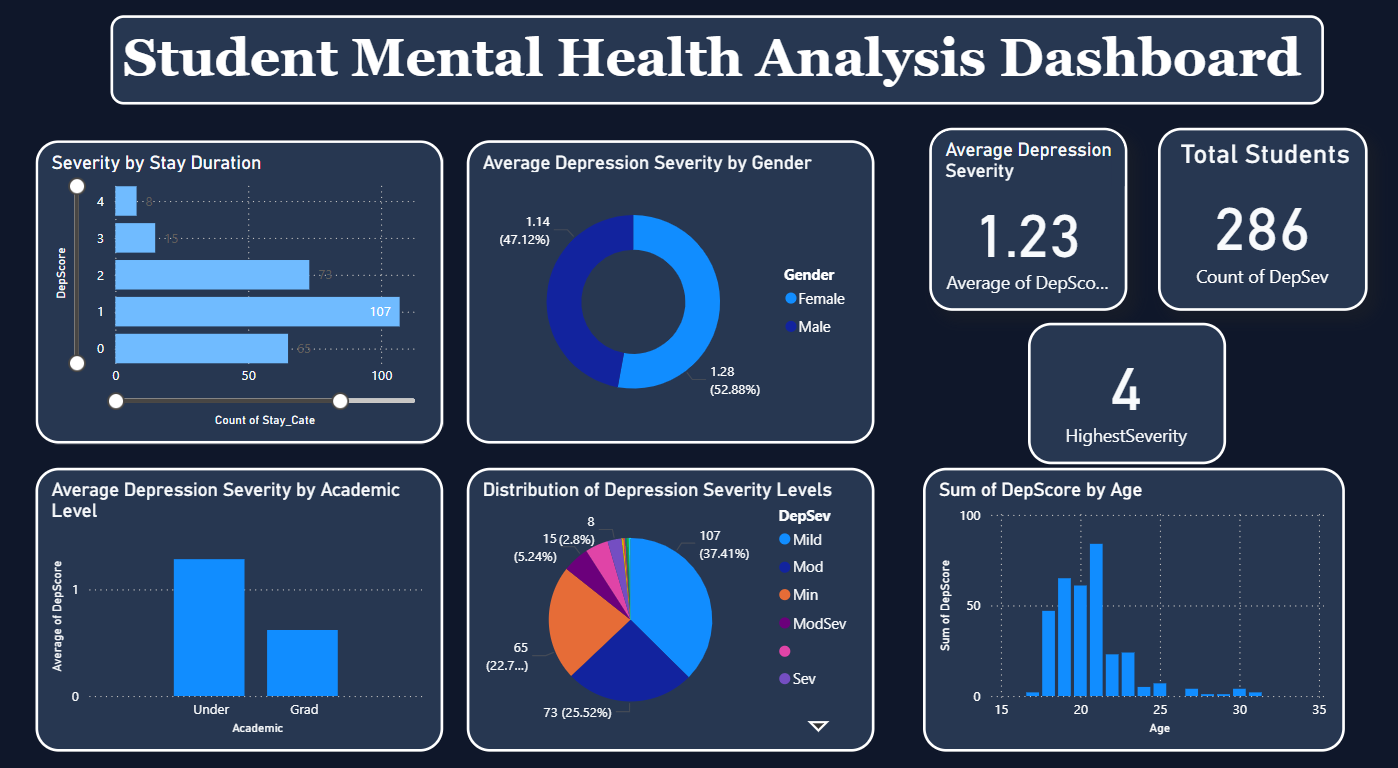

The page's visual inventory and layout, read from the dashboard file:
{"tool":"powerbi","page":{"name":"Page 1","canvas":[1280,720],"ordinal":0},"visuals":[{"type":"card","title":"Total Students","fields":{"Values":["CountNonNull(student_mental_health.DepSev)"]},"box":[1049,121,189.6,165.4],"z":0},{"type":"card","title":"Average Depression Severity","fields":{"Values":["Avg(student_mental_health.DepScore)"]},"box":[841.9,121,178.9,165.4],"z":1000},{"type":"clusteredBarChart","title":"Severity by Stay Duration","fields":{"Y":["CountNonNull(student_mental_health.Stay_Cate)"],"Category":["student_mental_health.DepScore"]},"box":[33.6,131.8,368.5,274.3],"z":2000},{"type":"donutChart","title":"Average Depression Severity by Gender","fields":{"Category":["student_mental_health.Gender"],"Y":["Avg(student_mental_health.DepScore)"]},"box":[423.6,131.8,368.5,274.3],"z":3000},{"type":"clusteredColumnChart","title":"Average Depression Severity by Academic Level","fields":{"Category":["student_mental_health.Academic"],"Y":["Avg(student_mental_health.DepScore)"]},"box":[33.6,429,368.5,256.9],"z":4000},{"type":"pieChart","title":"Distribution of Depression Severity Levels","fields":{"Category":["student_mental_health.DepSev"],"Y":["CountNonNull(student_mental_health.DepSev)"]},"box":[423.6,429,368.5,256.9],"z":5000},{"type":"textbox","box":[102.2,18.8,1097.4,80.7],"z":6000},{"type":"card","fields":{"Values":["student_mental_health.HighestSeverity"]},"box":[932,297.2,178.9,127.8],"z":7000},{"type":"clusteredColumnChart","fields":{"Category":["student_mental_health.Age"],"Y":["Sum(student_mental_health.DepScore)"]},"box":[836.5,429,381.9,256.9],"z":7001}]}

Visuals, with their boxes in screenshot pixels (x1, y1, x2, y2), scaled from the page's 1280x720 canvas onto the 1398x768 screenshot:
"Total Students" card: (left=1146, top=129, right=1353, bottom=305)
"Average Depression Severity" card: (left=920, top=129, right=1115, bottom=305)
"Severity by Stay Duration" clusteredBarChart: (left=37, top=141, right=439, bottom=433)
"Average Depression Severity by Gender" donutChart: (left=463, top=141, right=865, bottom=433)
"Average Depression Severity by Academic Level" clusteredColumnChart: (left=37, top=458, right=439, bottom=732)
"Distribution of Depression Severity Levels" pieChart: (left=463, top=458, right=865, bottom=732)
textbox: (left=112, top=20, right=1310, bottom=106)
card - student_mental_health.HighestSeverity: (left=1018, top=317, right=1213, bottom=453)
clusteredColumnChart - student_mental_health.Age x Sum(student_mental_health.DepScore): (left=914, top=458, right=1331, bottom=732)
